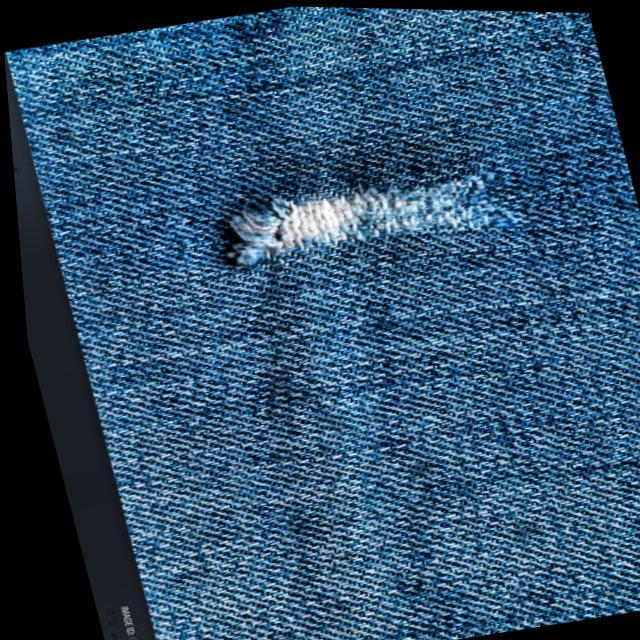hole: (230, 172, 487, 259)
